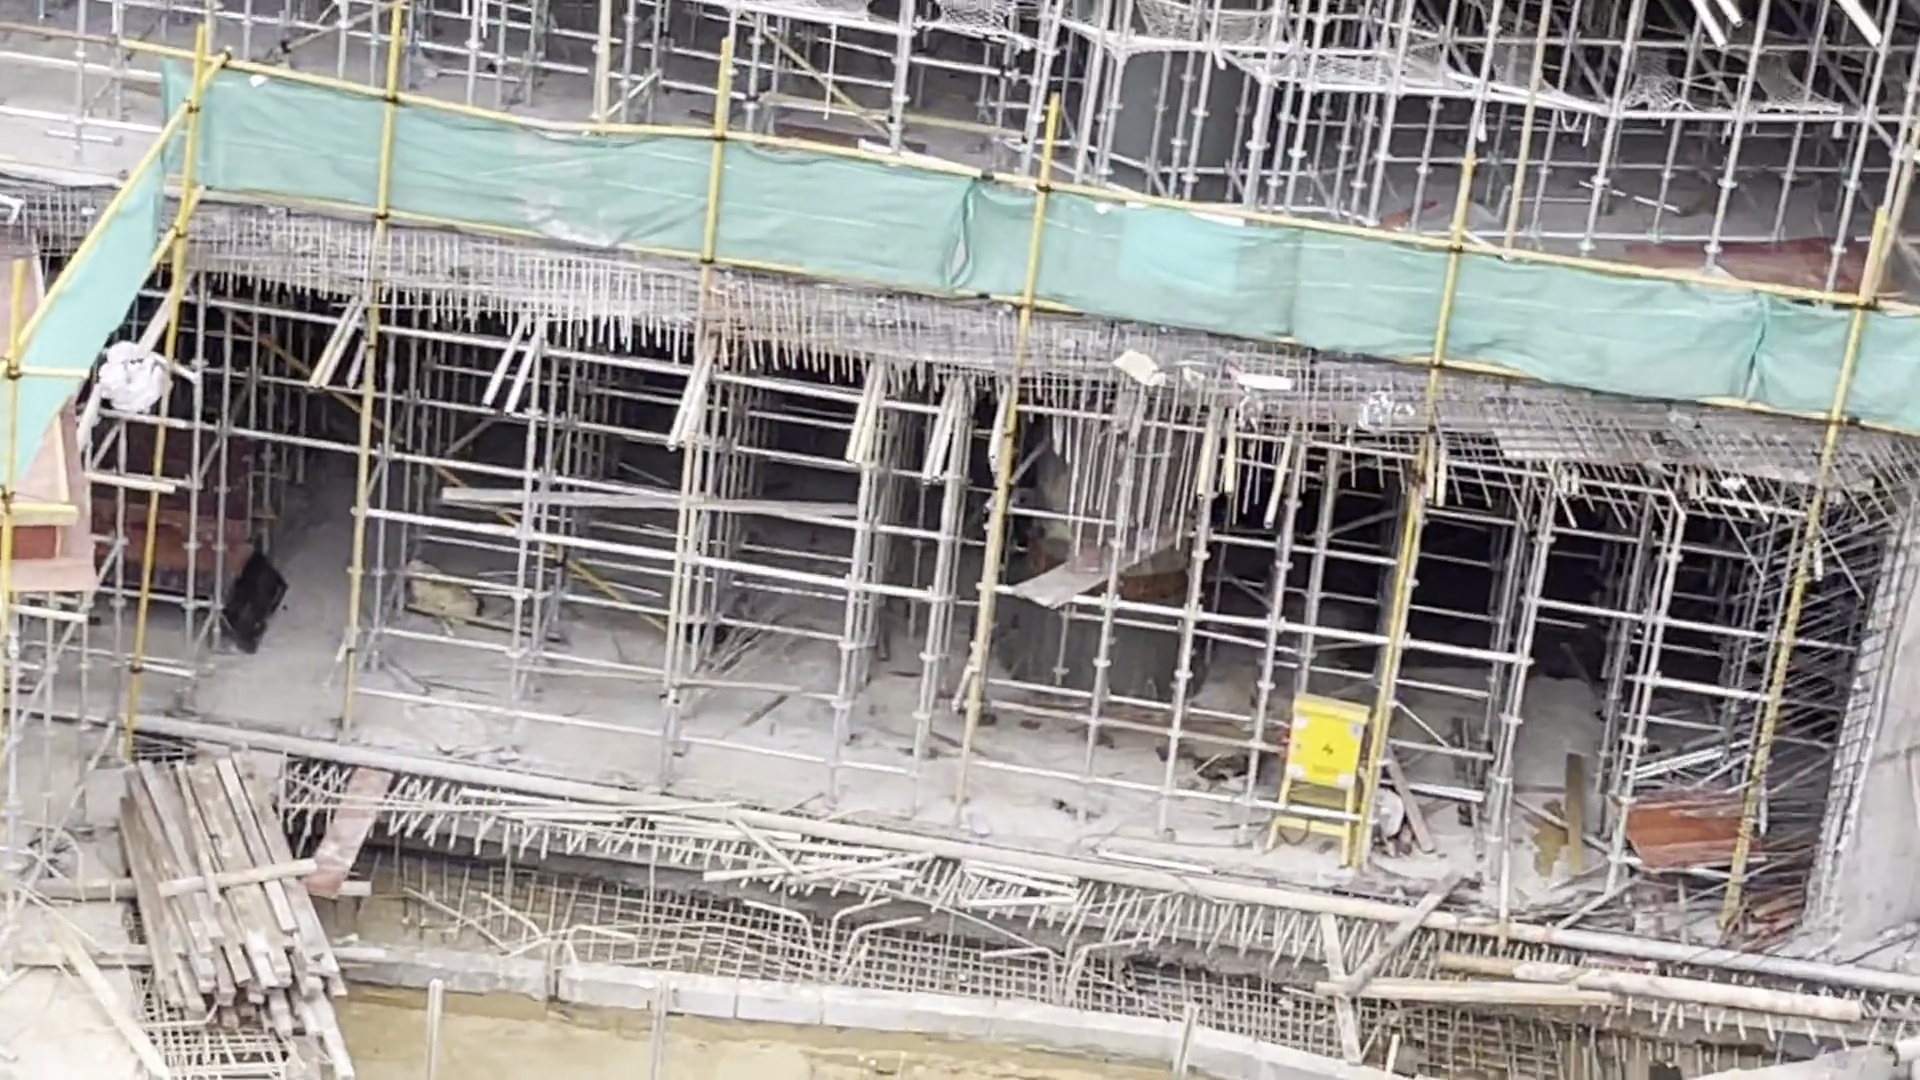ebox: (1269, 684, 1362, 866)
wood: (111, 752, 353, 1043)
